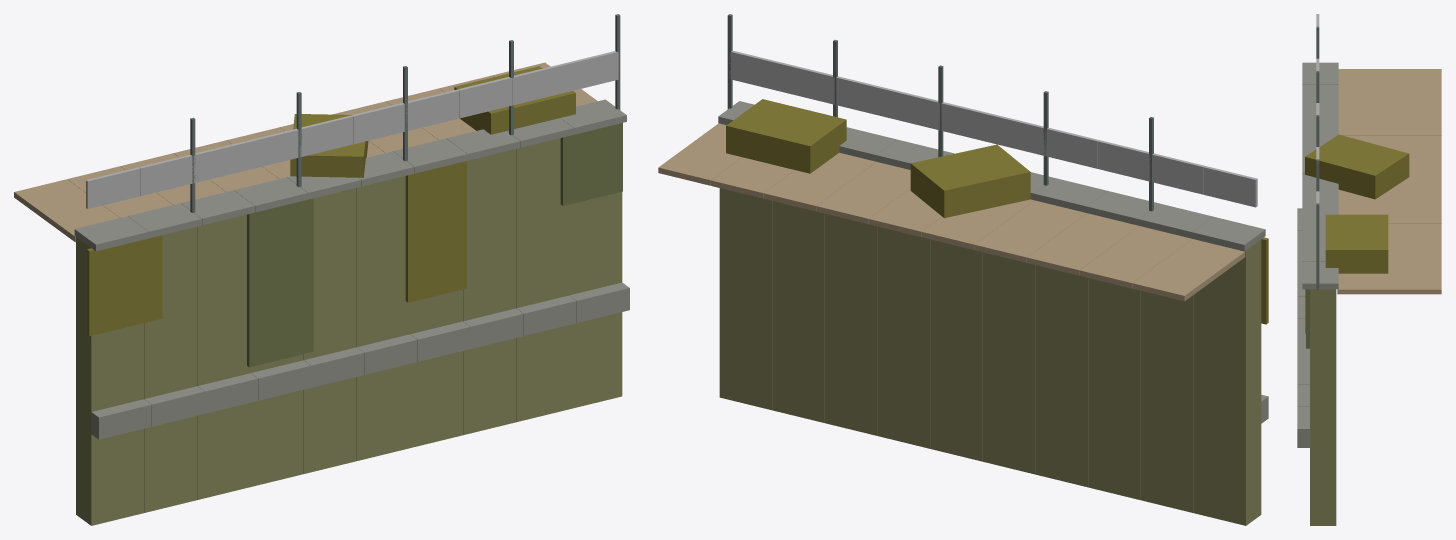
File: SM_MuroRampa_v2_Hiedra_e0_Sano_LOD1.fbx
3 views of the same model, side by side, from view 1: azimuth 30°, elevation 25°; view 2: azimuth 150°, elevation 25°; view 3: azimuth 270°, elevation 25° (orthographic). The views are drawn at different scales.
Visible parts, largest first — view 1: SM_muro_rampa_v8_LOD1; view 2: SM_muro_rampa_v8_LOD1; view 3: SM_muro_rampa_v8_LOD1.
Part boxes in pixels (<box>): SM_muro_rampa_v8_LOD1: <box>14,14,629,525</box>; SM_muro_rampa_v8_LOD1: <box>658,14,1268,525</box>; SM_muro_rampa_v8_LOD1: <box>1297,14,1441,525</box>.
Bounding box in the file's own units: 10.12 × 6.8 × 2.77.
